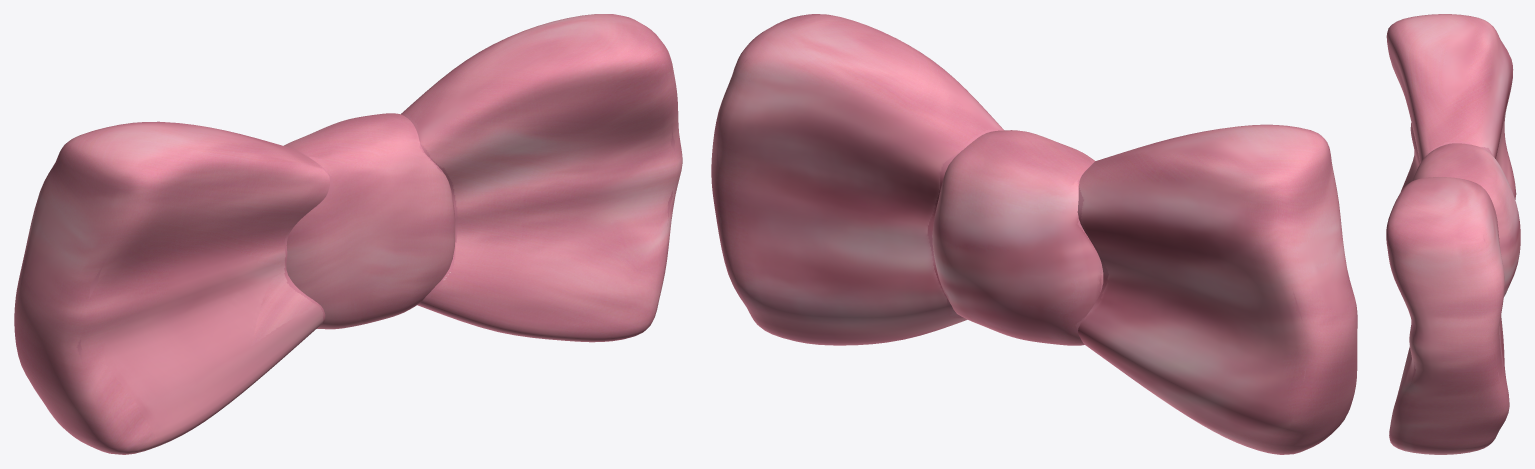
The model's file is hairbow.fbx.
The picture shows the model from 3 angles, left to right: view 1: azimuth 30°, elevation 25°; view 2: azimuth 150°, elevation 25°; view 3: azimuth 270°, elevation 25°; orthographic projection. The views are drawn at different scales.
Parts seen in each view (by area): view 1: Hair Bow; view 2: Hair Bow; view 3: Hair Bow.
Boxes of the visible parts, bbox=[...] form: Hair Bow: bbox=[14, 14, 682, 454]; Hair Bow: bbox=[711, 14, 1357, 454]; Hair Bow: bbox=[1386, 14, 1520, 454].
Bounding box in the file's own units: 99.58 × 45.13 × 22.67.
